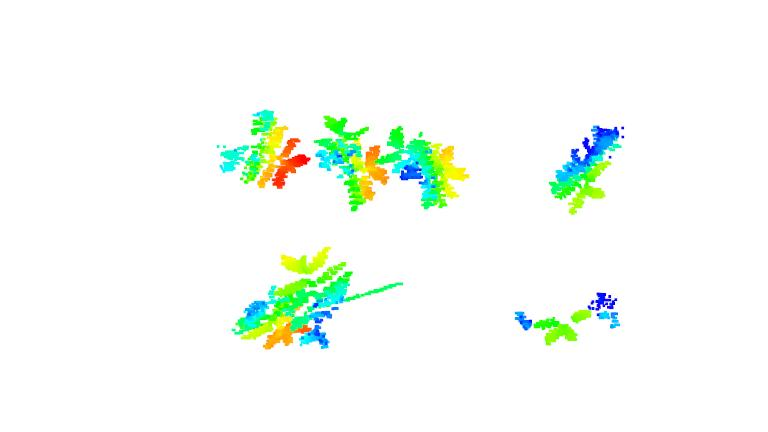chickpea: (213, 106, 310, 189), (381, 126, 470, 211), (315, 112, 389, 214), (281, 247, 350, 350), (549, 121, 623, 214), (232, 284, 312, 350), (533, 306, 595, 348)
